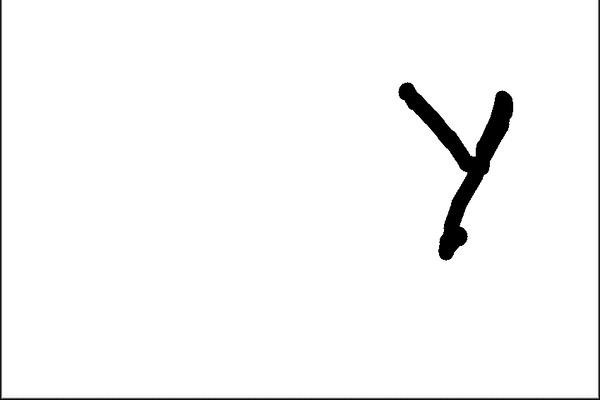Y: (387, 69, 520, 269)
